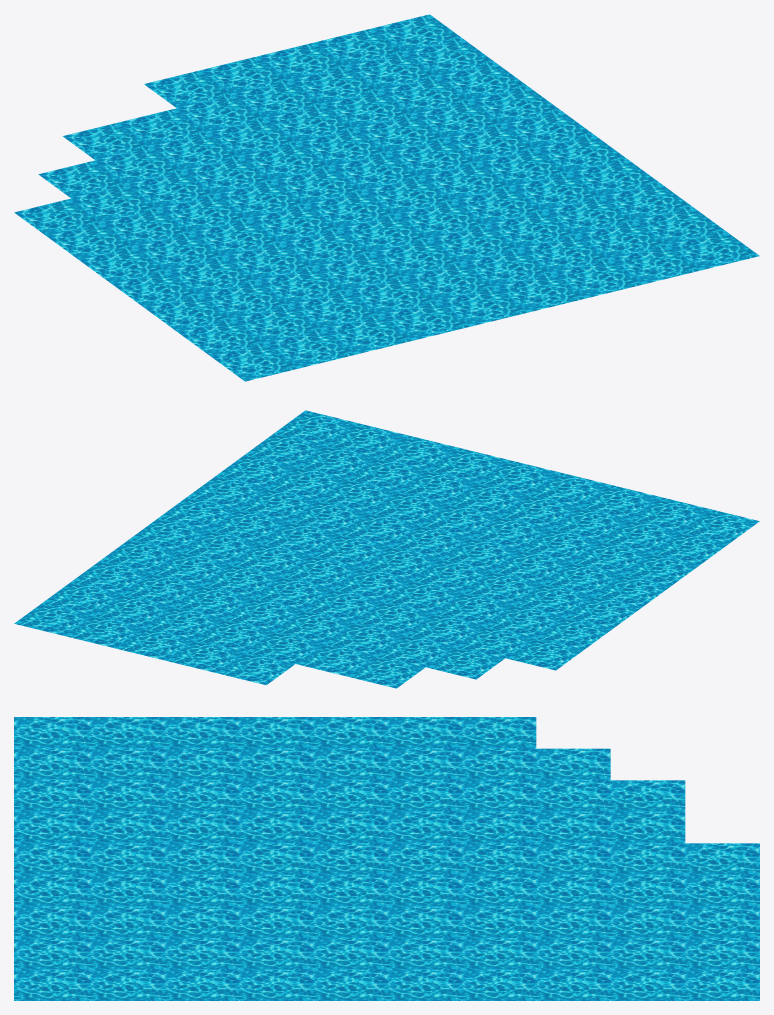
The model's file is agua_narukami.obj.
3 renders of one model, top to bottom at view 1: azimuth 30°, elevation 25°; view 2: azimuth 150°, elevation 25°; view 3: azimuth 270°, elevation 25°, orthographic. The views are drawn at different scales.
Parts seen in each view (by area): view 1: Narukami_agua_Material.014; view 2: Narukami_agua_Material.014; view 3: Narukami_agua_Material.014.
Part boxes in pixels (x1,y1,x2,y2): Narukami_agua_Material.014: [14, 14, 759, 381]; Narukami_agua_Material.014: [14, 410, 759, 688]; Narukami_agua_Material.014: [14, 717, 759, 1000].
Bounding box in the file's own units: 36.29 × 2.86e-06 × 40.32.
